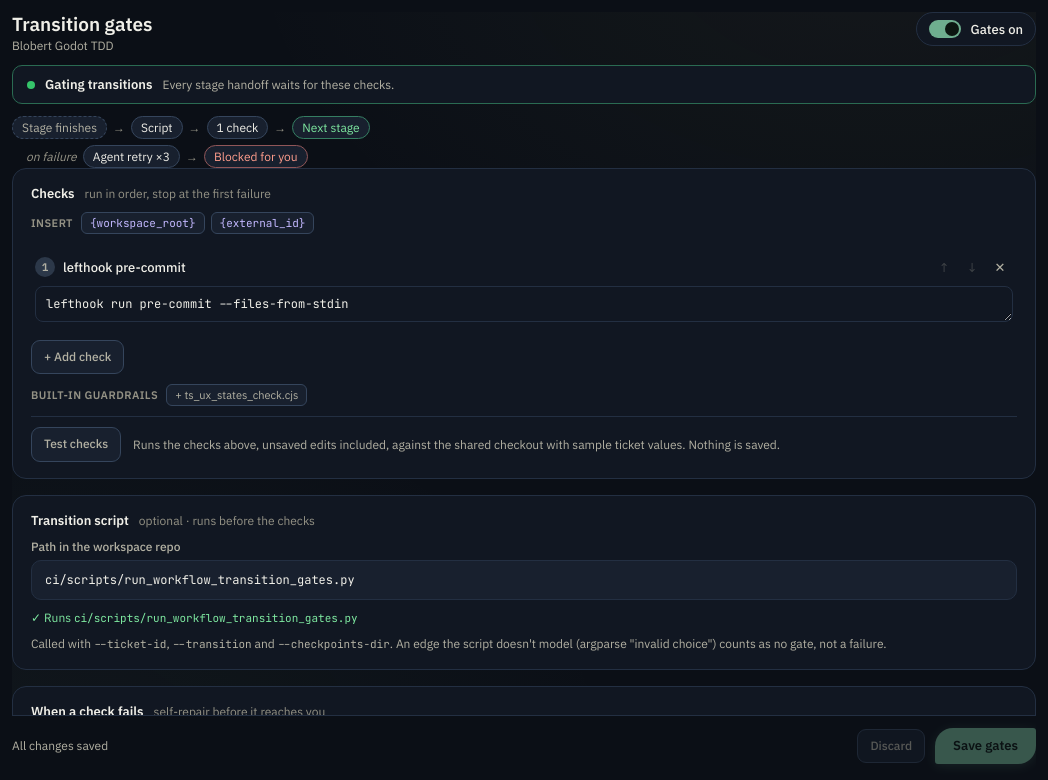
Test: WorkspaceGatesPanel › adds a built-in guardrail in one click
Click the button "+ ts_ux_states_check.cjs": (237, 395) x1=166 y1=384 x2=307 y2=406
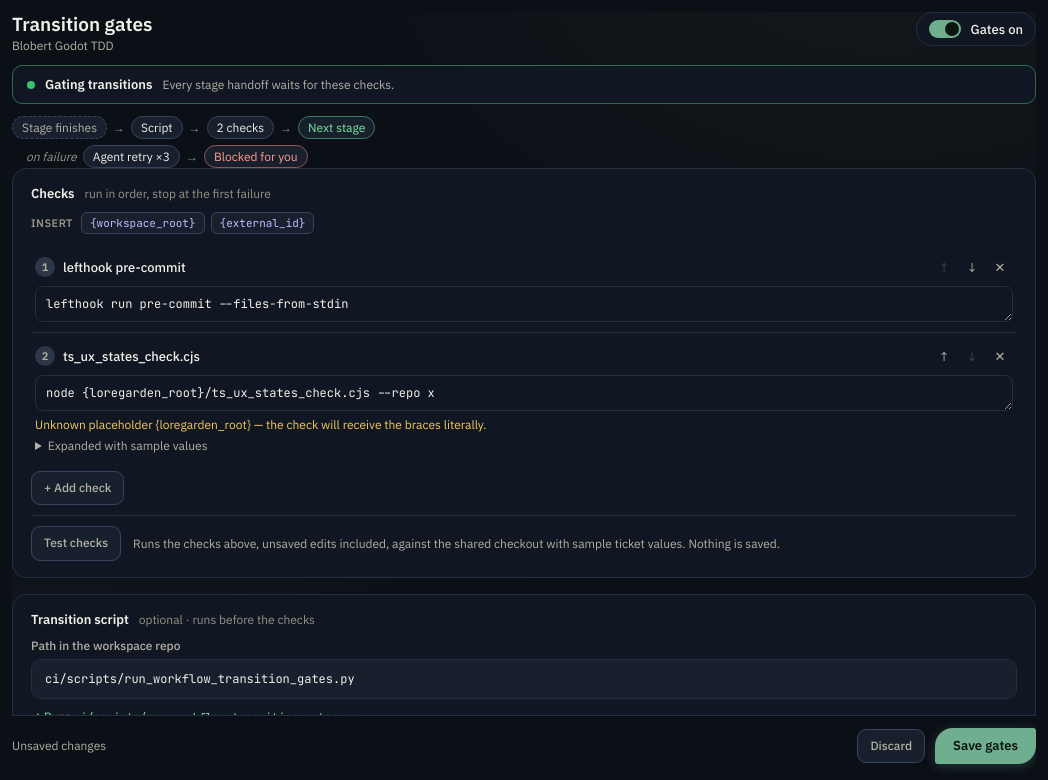
Expected: the text box showing "node {loregarden_root}/ts_ux_states_check.cjs --repo x" is shown, x1=35 y1=375 x2=1013 y2=411
Expected: the button "+ ts_ux_states_check.cjs" is gone
